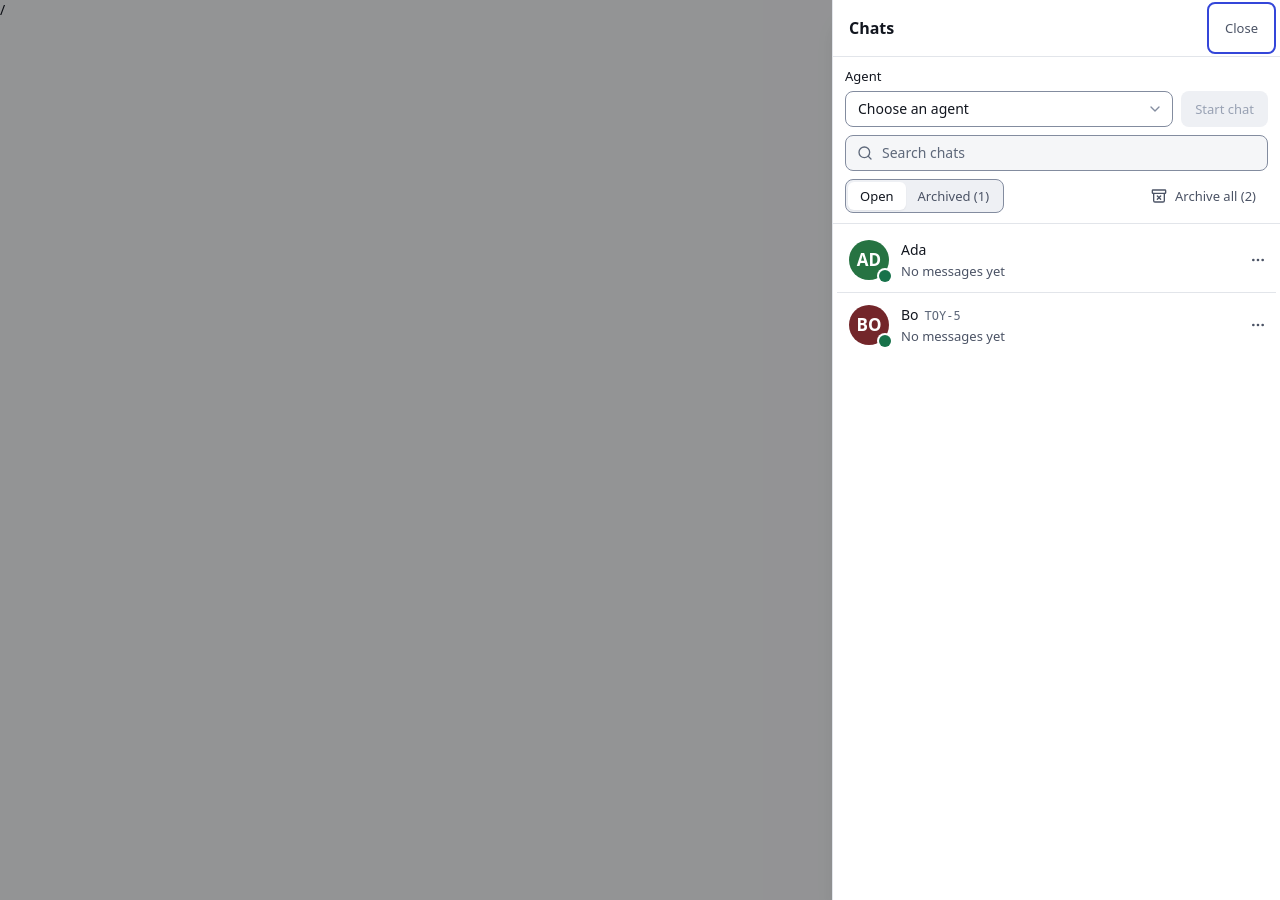
chat list: close and delete › Close moves a chat out of the list
Click the button named "Actions for the chat with Ada". click: (1258,260)
box: [1240,242,1276,278]
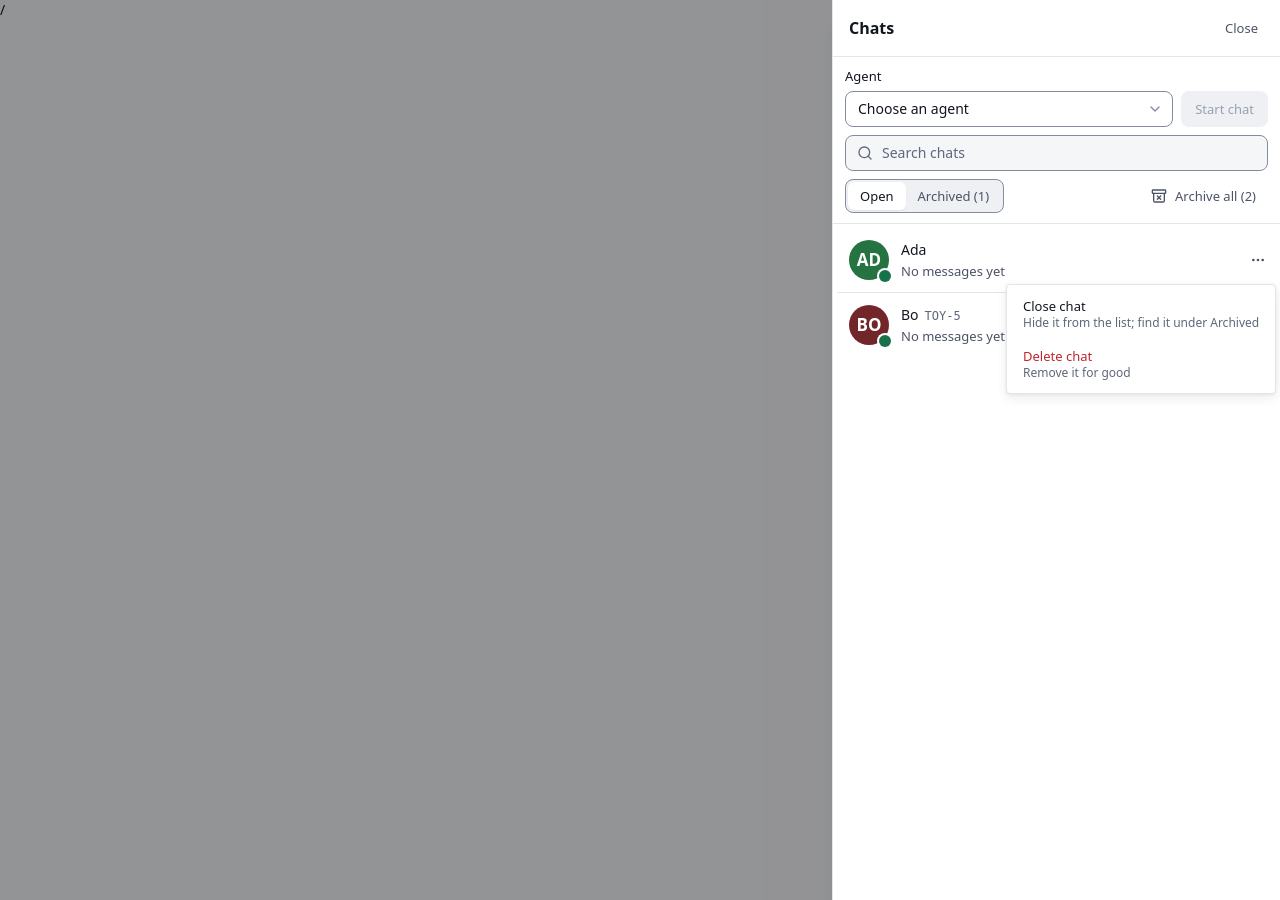
Click the menu item "Close chat Hide it from the list; find it under Archived". click: (1141,314)
box: [1011,289,1271,339]
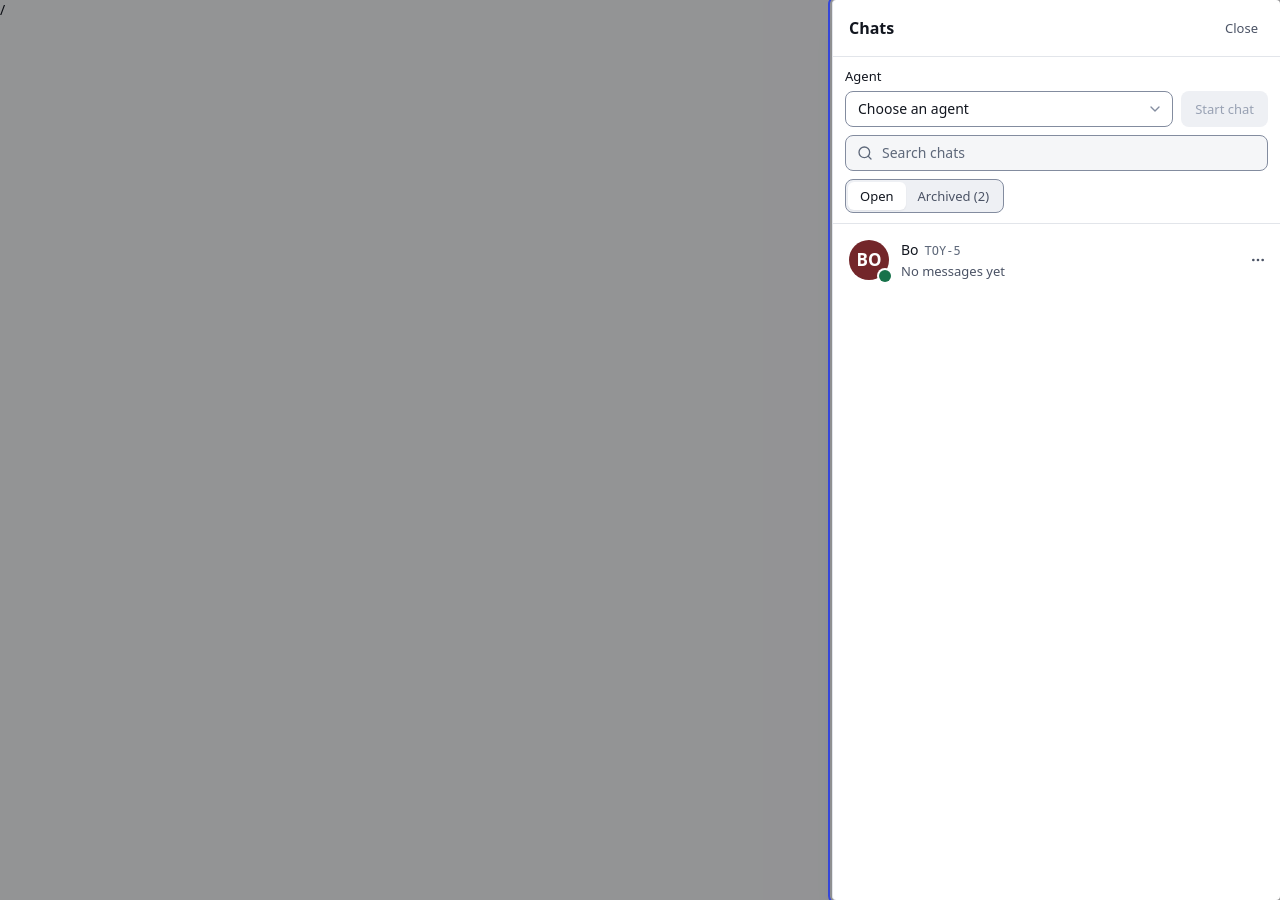
Now the list item with test id "chat-row-Ada" is gone
